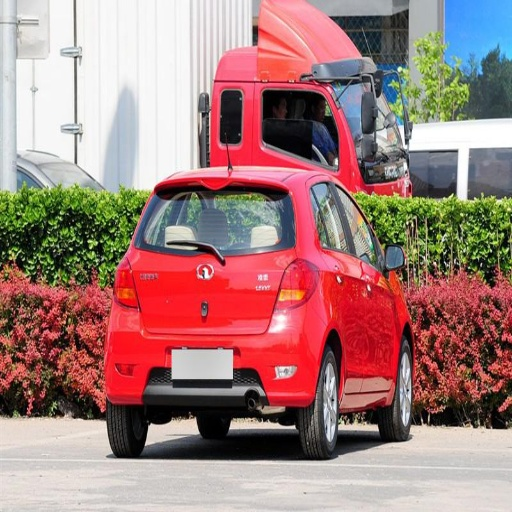back_bumper: (108, 303, 325, 405)
back_right_door: (309, 166, 368, 394)
trunk: (131, 252, 283, 347), (234, 78, 330, 112)
